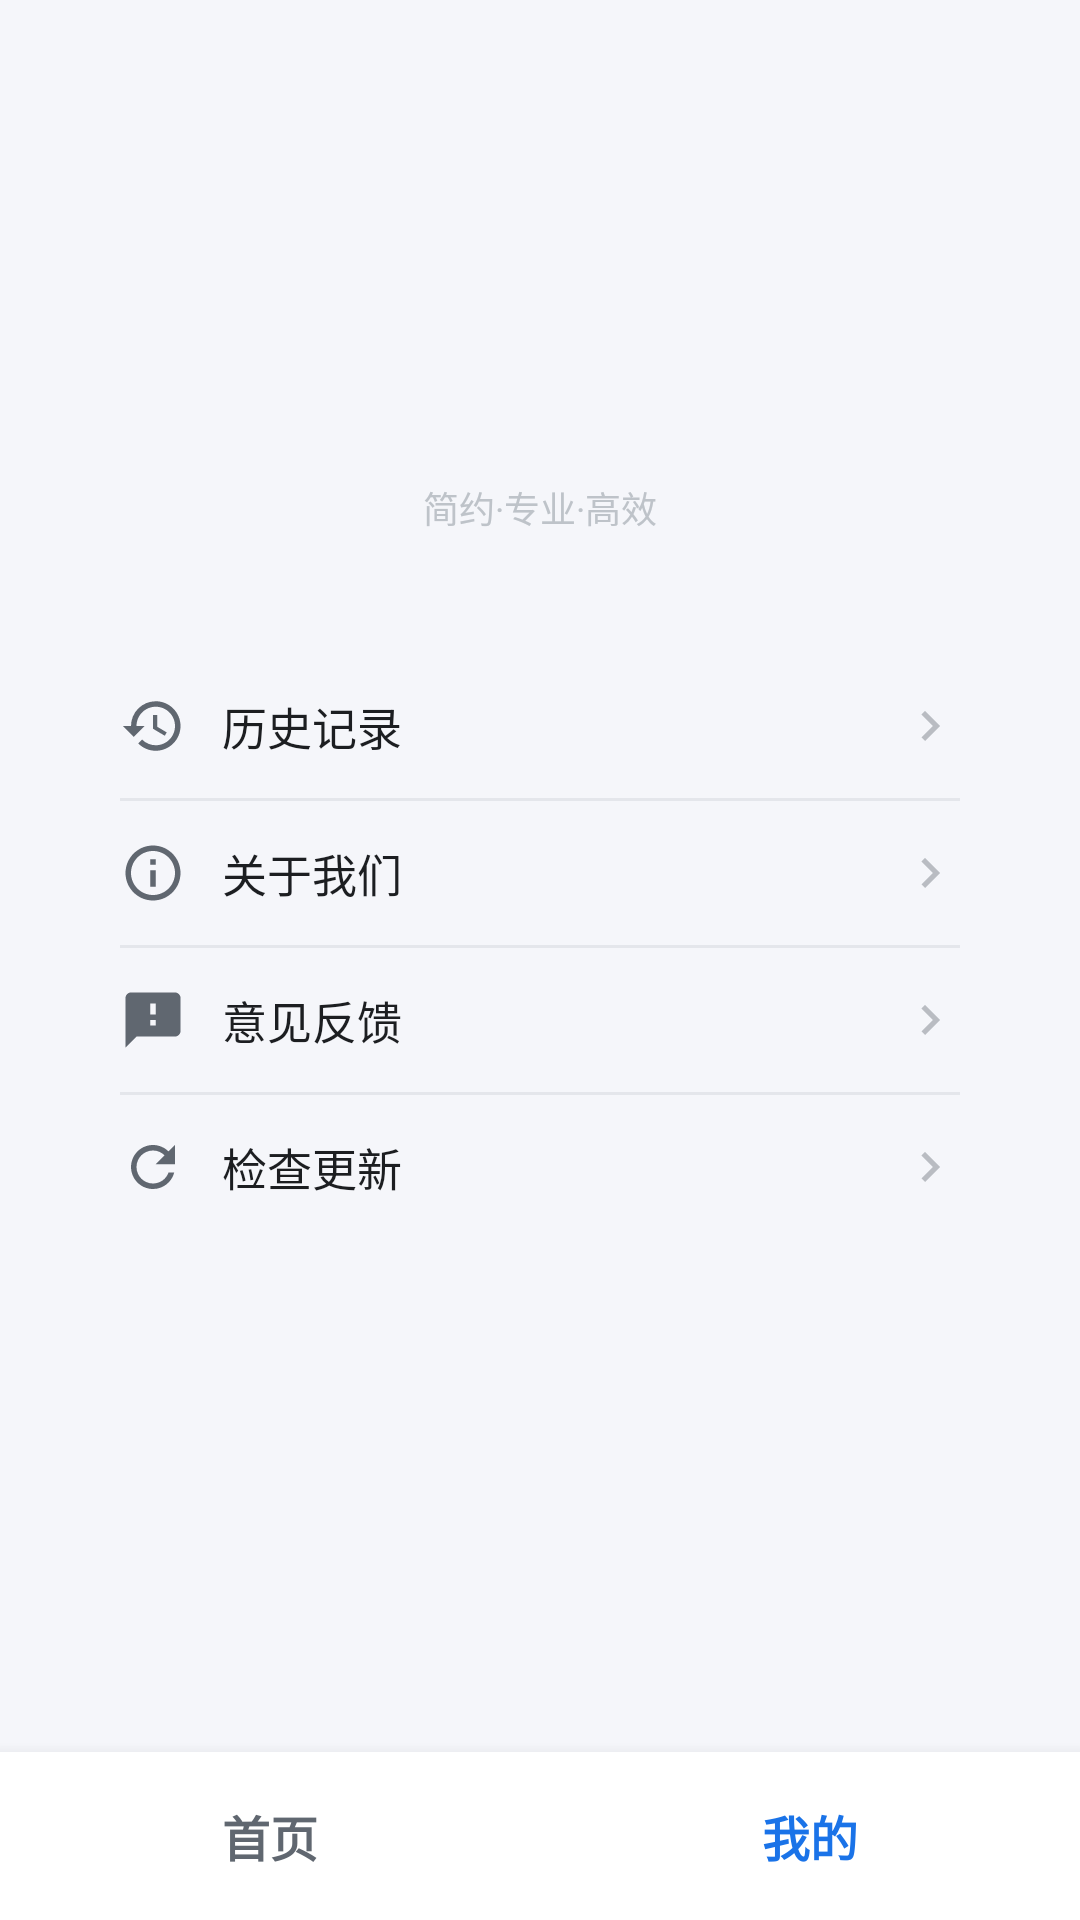

Icons on this 1080w x 1920h Android screen, each with the point to tap as (x=x, y=y):
about: (x=153, y=873)
arrow right: (x=931, y=726), (x=931, y=873), (x=931, y=1020), (x=931, y=1167)
feedback: (x=153, y=1020)
history: (x=152, y=726)
update: (x=153, y=1167)
